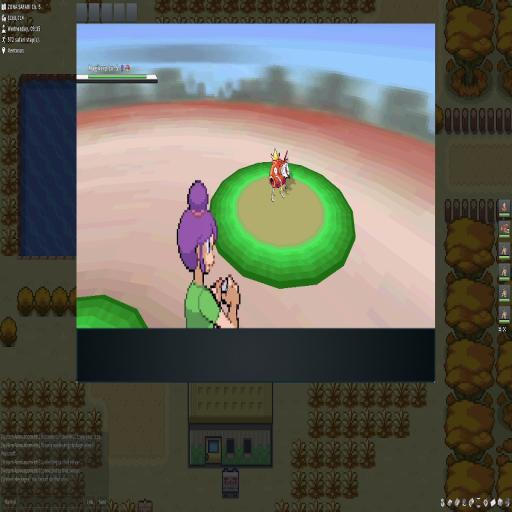MAGIKARP: (268, 148, 292, 202)
